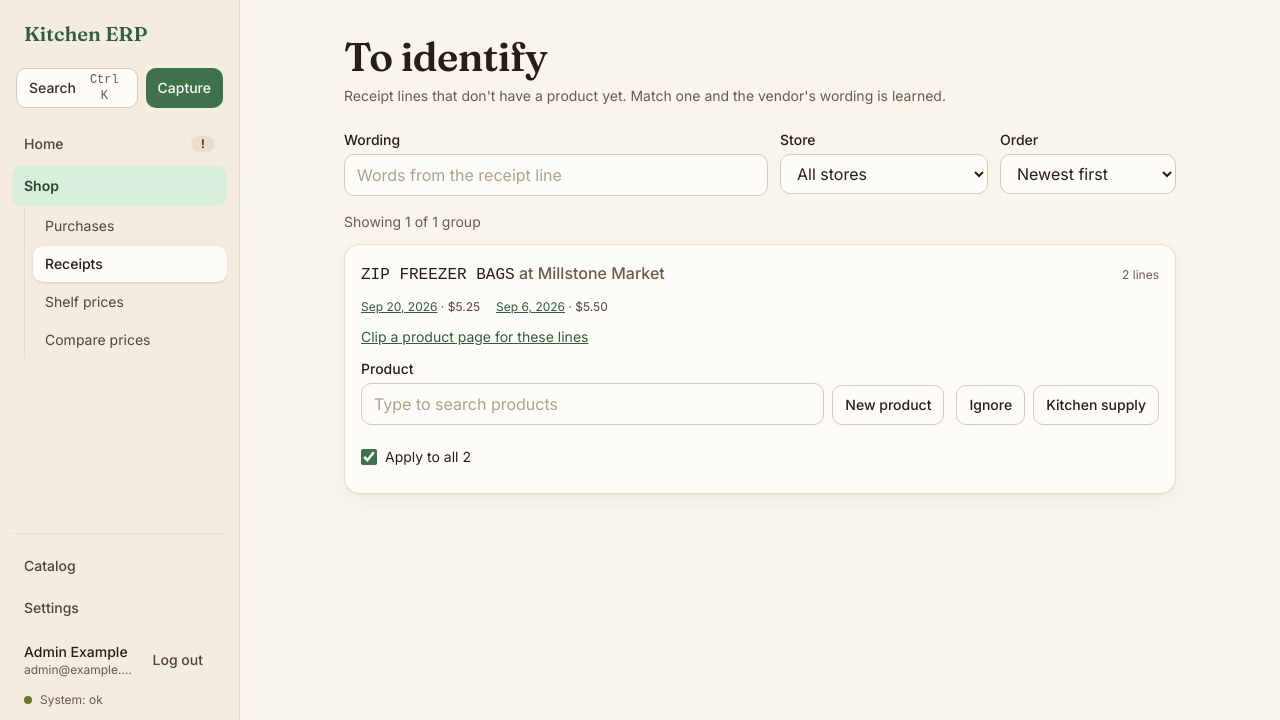
Scenario: kitchen supply on To identify › marks a To identify group a kitchen supply
The image size is (1280, 720).
Click the button "Kitchen supply" at {"x": 1096, "y": 405}, box left=1033, top=385, right=1159, bottom=425
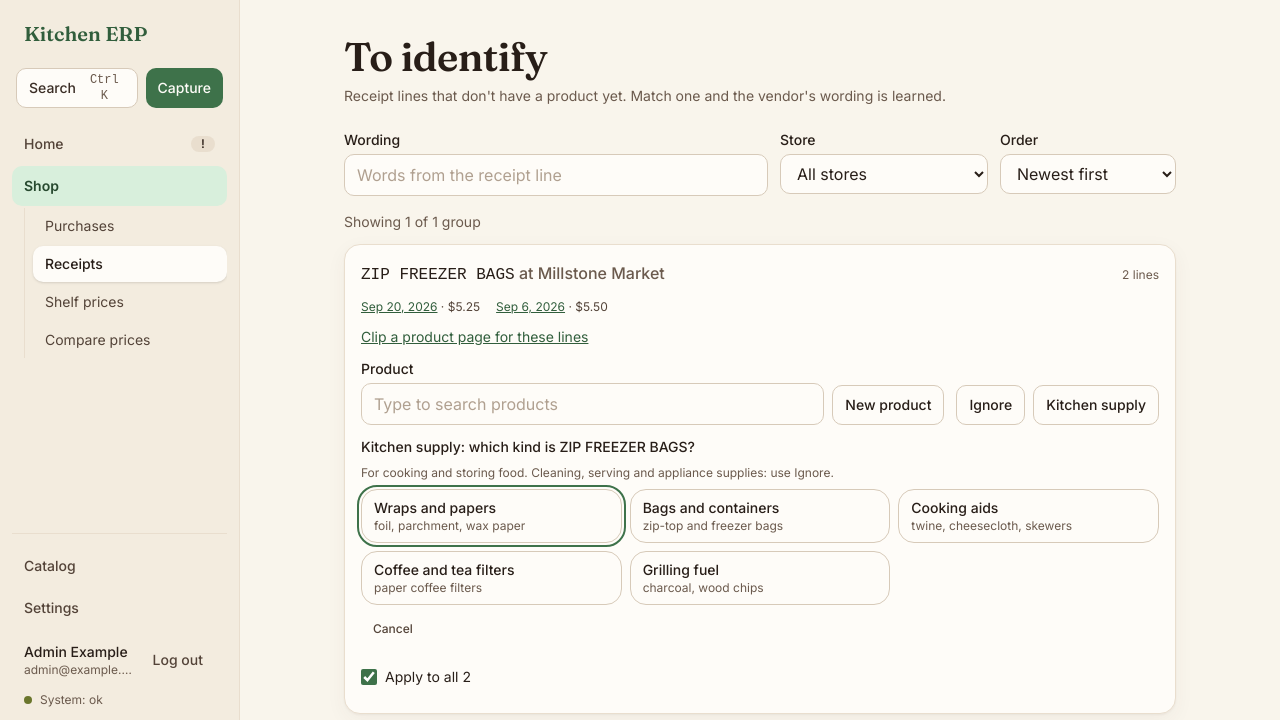
Click the button "Bags and containers zip-top and freezer bags" at {"x": 760, "y": 516}, box left=630, top=489, right=890, bottom=543
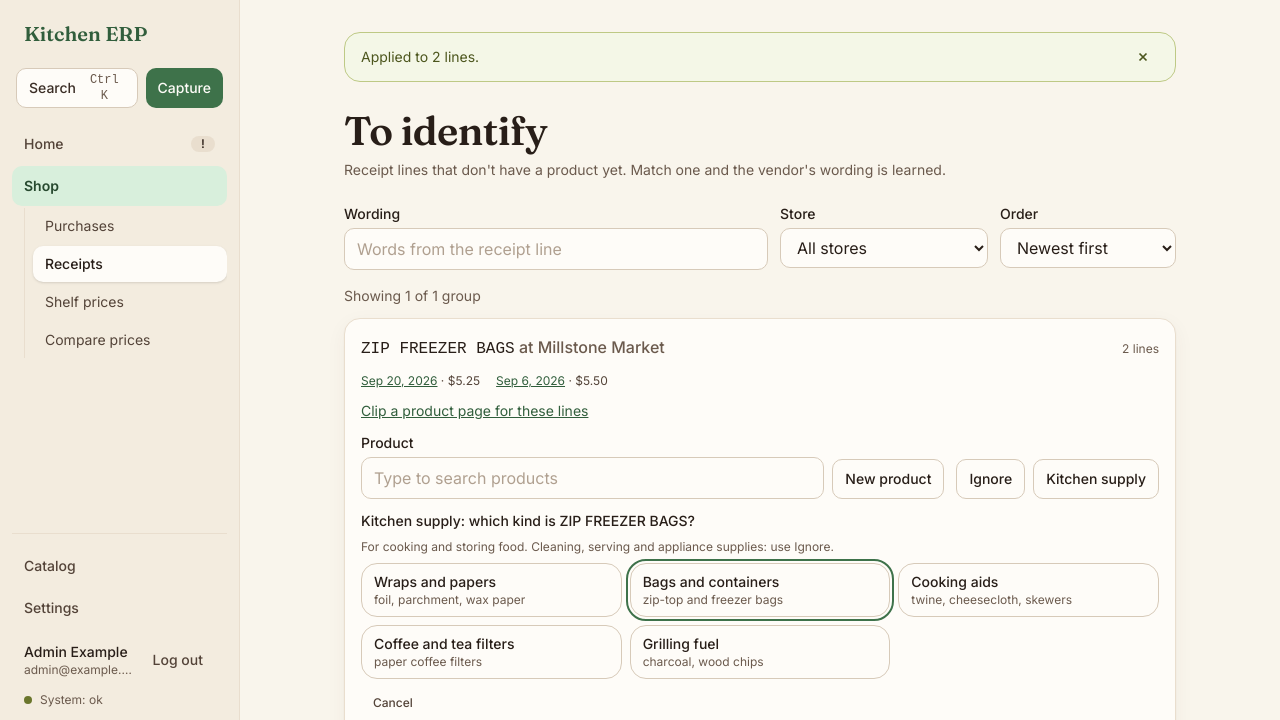
Check: the text "Applied to 2 lines." is shown, box left=361, top=47, right=479, bottom=67
